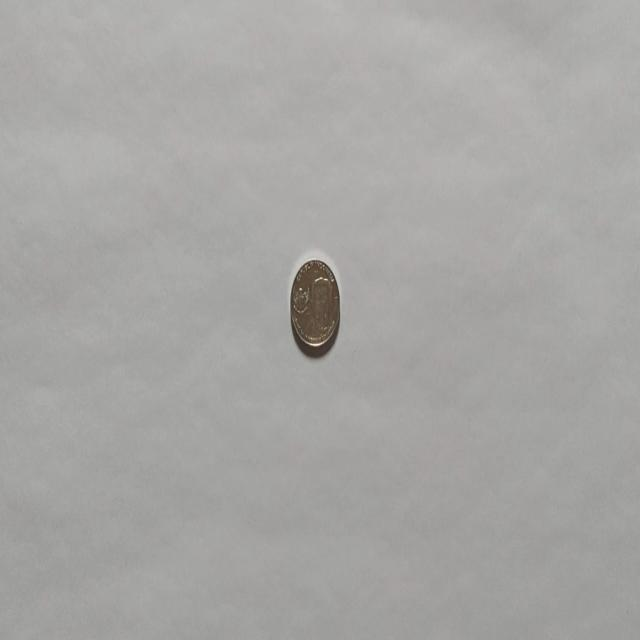seratus rupiah: (289, 257, 341, 354)
